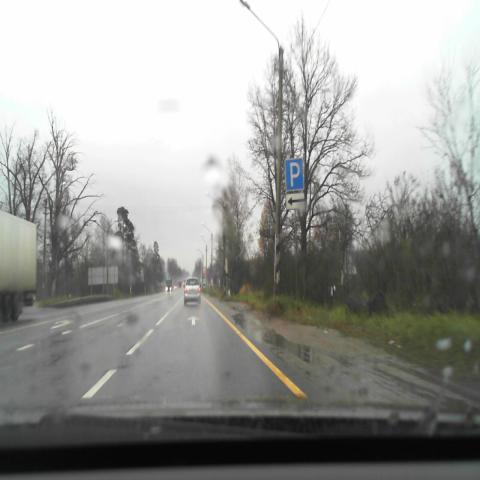8_3_2: (286, 193, 304, 209)
